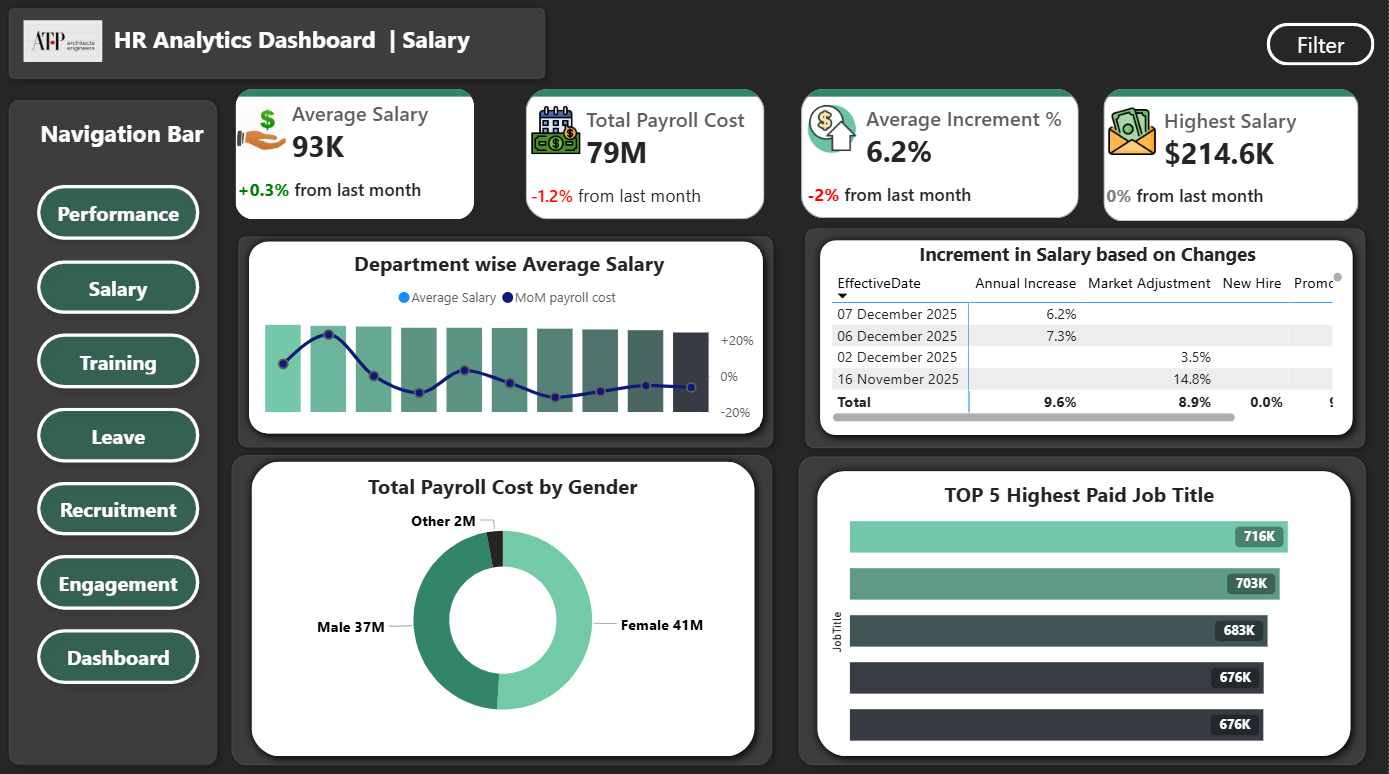

This screenshot's page, from the dashboard's own definition file:
{"tool":"powerbi","page":{"name":"💸Salary","canvas":[1280,720],"ordinal":3},"visuals":[{"type":"group","id":"g1","title":"Comapny Title","box":[0,5.4,512.2,83.1],"z":0},{"type":"shape","box":[0,5.4,512.2,83.1],"z":0,"group":"g1"},{"type":"group","id":"g2","title":"KPIs","box":[212.5,83,1045.5,132.1],"z":0,"group":"g3"},{"type":"cardVisual","fields":{"Data":["03_Salary_History_Dim.Total Payroll Cost"]},"box":[480.2,83.1,230,130],"z":0,"group":"g2"},{"type":"shape","box":[0,89.9,209.8,630.7],"z":0,"group":"g6"},{"type":"shape","box":[734.2,208.4,534,220.7],"z":0,"group":"g7"},{"type":"shape","box":[211.1,215.2,510.8,212.5],"z":0,"group":"g4"},{"type":"shape","box":[205.5,416.5,516.3,303.9],"z":0,"group":"g8"},{"type":"shape","box":[727.4,418.2,540.8,302.4],"z":0,"group":"g5"},{"type":"textbox","box":[100.6,23.4,405.1,46.9],"z":1000,"group":"g1"},{"type":"group","id":"g3","title":"KPIs","box":[212.5,83,1045.5,132.1],"z":1000},{"type":"cardVisual","fields":{"Data":["03_Salary_History_Dim.Average Increment %"]},"box":[734.3,83.5,267,129.4],"z":1000,"group":"g2"},{"type":"shape","box":[748,219.3,508.9,197.5],"z":1000,"group":"g7"},{"type":"shape","box":[220.5,220.4,491.5,194.8],"z":1000,"group":"g4"},{"type":"shape","box":[224.6,422.4,481.2,289.3],"z":1000,"group":"g8"},{"type":"shape","box":[744.4,431.9,509.2,280.4],"z":1000,"group":"g5"},{"type":"image","box":[17.7,20.2,82.5,49],"z":2000,"group":"g1"},{"type":"cardVisual","fields":{"Data":["03_Salary_History_Dim.Max Salary"]},"box":[1012.8,83,245.2,132.1],"z":2000,"group":"g2"},{"type":"group","id":"g4","title":"Pie Chart","box":[211.1,215.2,510.8,212.5],"z":2000},{"type":"pivotTable","title":"Increment in Salary based on Changes","fields":{"Values":["03_Salary_History_Dim.Average Increment %"],"Rows":["03_Salary_History_Dim.EffectiveDate.Variation.Date Hierarchy.Quarter"],"Columns":["03_Salary_History_Dim.ChangeReason"]},"box":[762.5,229.6,480.8,171.6],"z":2000,"group":"g7"},{"type":"lineStackedColumnComboChart","title":"Department wise Average Salary ","fields":{"Category":["01_Employee_Master_Fact.Department"],"Y":["01_Employee_Master_Fact.Average Salary"],"Y2":["03_Salary_History_Dim.MoM payroll cost"]},"box":[240.2,236,460.4,163.5],"z":2000,"group":"g8"},{"type":"barChart","title":"TOP 5 Highest Paid Job Title","fields":{"Y":["Sum(03_Salary_History_Dim.NewSalary)"],"Category":["01_Employee_Master_Fact.JobTitle"]},"box":[760.9,449.3,468.6,246.5],"z":2000,"group":"g5"},{"type":"cardVisual","fields":{"Data":["01_Employee_Master_Fact.Average Salary"]},"box":[212.5,83.1,230,130],"z":3000,"group":"g2"},{"type":"group","id":"g5","title":"Bubble chart","box":[727.4,418.2,540.8,302.4],"z":3000},{"type":"group","id":"g6","title":"Nav Bar","box":[0,89.9,209.8,630.7],"z":4000},{"type":"group","id":"g7","title":"Area chart","box":[734.2,208.4,534,220.7],"z":5000},{"type":"group","id":"g8","title":"Bubble chart","box":[205.5,236,516.3,484.4],"z":6000},{"type":"donutChart","fields":{"Y":["03_Salary_History_Dim.Total Payroll Cost"],"Category":["01_Employee_Master_Fact.Gender"]},"box":[239.7,441.3,448.1,247.9],"z":7000},{"type":"actionButton","box":[1168.7,27.2,99.4,39.5],"z":9000},{"type":"actionButton","box":[25.9,167.5,167.5,68.5],"z":10000},{"type":"actionButton","box":[25.9,304.5,167.5,68.5],"z":11000},{"type":"actionButton","box":[25.9,373,167.5,68.5],"z":12000},{"type":"actionButton","box":[25.9,441.5,167.5,67],"z":13000},{"type":"actionButton","box":[25.9,508.5,167.5,68.5],"z":14000},{"type":"actionButton","box":[25.9,237.5,167.5,67],"z":15000},{"type":"textbox","box":[25.9,109,174.4,58.6],"z":16000},{"type":"actionButton","box":[25.9,577,167.5,68.5],"z":17000}]}

Visuals, with their boxes in screenshot pixels (x1, y1, x2, y2), scaled from the page's 1280x720 canvas onto the 1389x774 screenshot:
"Comapny Title" group: bbox=[0, 6, 556, 95]
shape: bbox=[0, 6, 556, 95]
"KPIs" group: bbox=[231, 89, 1365, 231]
cardVisual - 03_Salary_History_Dim.Total Payroll Cost: bbox=[521, 89, 771, 229]
shape: bbox=[0, 97, 228, 773]
shape: bbox=[797, 224, 1376, 461]
shape: bbox=[229, 231, 783, 460]
shape: bbox=[223, 448, 783, 773]
shape: bbox=[789, 450, 1376, 773]
textbox: bbox=[109, 25, 549, 76]
"KPIs" group: bbox=[231, 89, 1365, 231]
cardVisual - 03_Salary_History_Dim.Average Increment %: bbox=[797, 90, 1087, 229]
shape: bbox=[812, 236, 1364, 448]
shape: bbox=[239, 237, 773, 446]
shape: bbox=[244, 454, 766, 765]
shape: bbox=[808, 464, 1360, 766]
image: bbox=[19, 22, 109, 74]
cardVisual - 03_Salary_History_Dim.Max Salary: bbox=[1099, 89, 1365, 231]
"Pie Chart" group: bbox=[229, 231, 783, 460]
"Increment in Salary based on Changes" pivotTable: bbox=[827, 247, 1349, 431]
"Department wise Average Salary " lineStackedColumnComboChart: bbox=[261, 254, 760, 429]
"TOP 5 Highest Paid Job Title" barChart: bbox=[826, 483, 1334, 748]
cardVisual - 01_Employee_Master_Fact.Average Salary: bbox=[231, 89, 480, 229]
"Bubble chart" group: bbox=[789, 450, 1376, 773]
"Nav Bar" group: bbox=[0, 97, 228, 773]
"Area chart" group: bbox=[797, 224, 1376, 461]
"Bubble chart" group: bbox=[223, 254, 783, 773]
donutChart - 03_Salary_History_Dim.Total Payroll Cost x 01_Employee_Master_Fact.Gender: bbox=[260, 474, 746, 741]
actionButton: bbox=[1268, 29, 1376, 72]
actionButton: bbox=[28, 180, 210, 254]
actionButton: bbox=[28, 327, 210, 401]
actionButton: bbox=[28, 401, 210, 475]
actionButton: bbox=[28, 475, 210, 547]
actionButton: bbox=[28, 547, 210, 620]
actionButton: bbox=[28, 255, 210, 327]
textbox: bbox=[28, 117, 217, 180]
actionButton: bbox=[28, 620, 210, 694]
